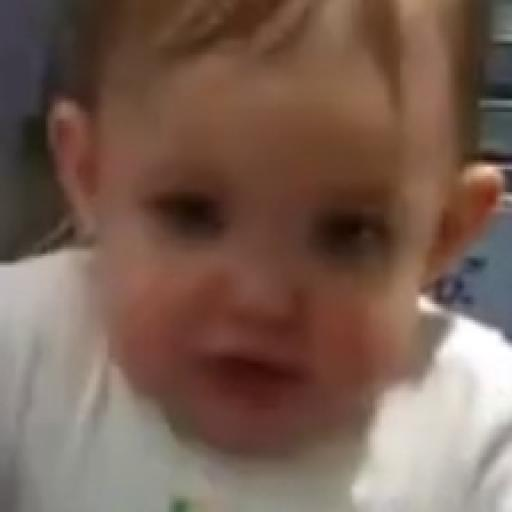Autism: (60, 30, 477, 440)
